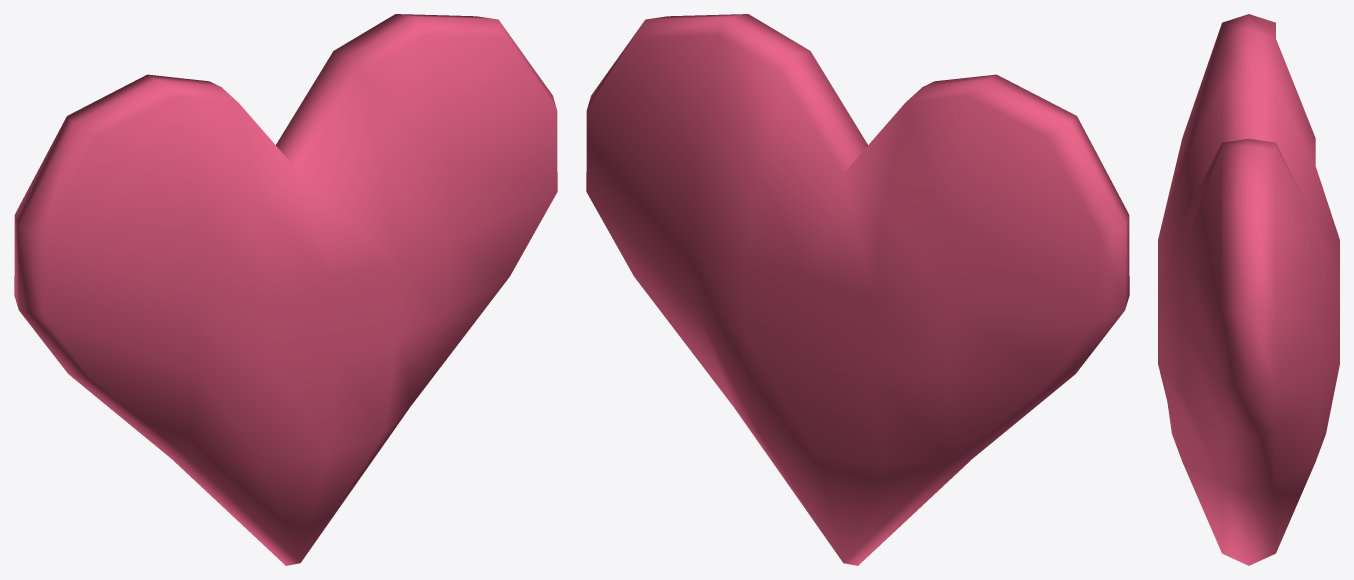
File: charm_icon.fbx
The picture shows the model from 3 angles, left to right: view 1: azimuth 30°, elevation 25°; view 2: azimuth 150°, elevation 25°; view 3: azimuth 270°, elevation 25°; orthographic projection. The views are drawn at different scales.
Visible parts, largest first — view 1: Cube; view 2: Cube; view 3: Cube.
Part boxes in pixels (left/top/right/bottom): Cube: left=14, top=14, right=557, bottom=565; Cube: left=586, top=14, right=1129, bottom=565; Cube: left=1158, top=14, right=1339, bottom=565.
Bounding box in the file's own units: 49.13 × 45.46 × 15.71.
